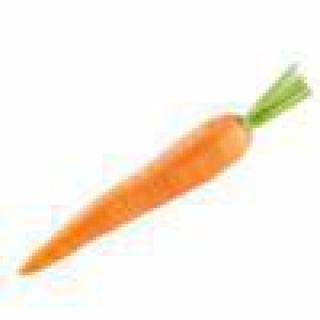Wortel: (11, 56, 312, 293)
